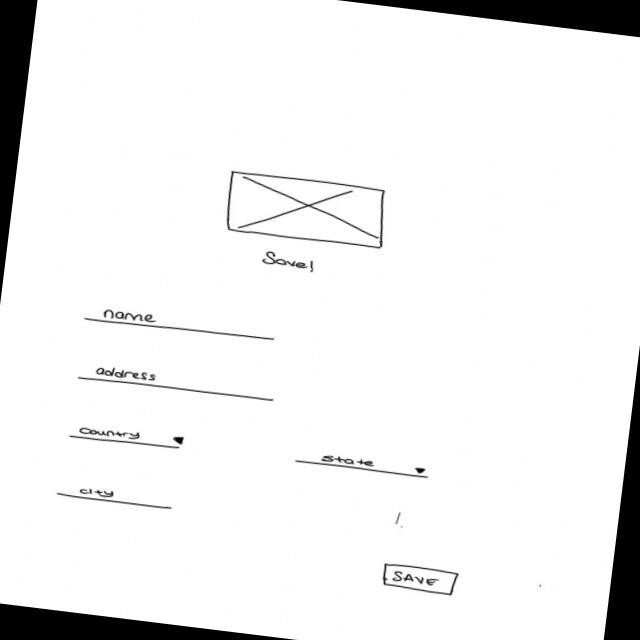button: (380, 562, 462, 599)
image: (222, 168, 393, 253)
input: (76, 362, 278, 405), (81, 305, 277, 345), (56, 481, 176, 513)
label: (260, 249, 319, 276)
select: (295, 448, 433, 481), (67, 419, 188, 454)
